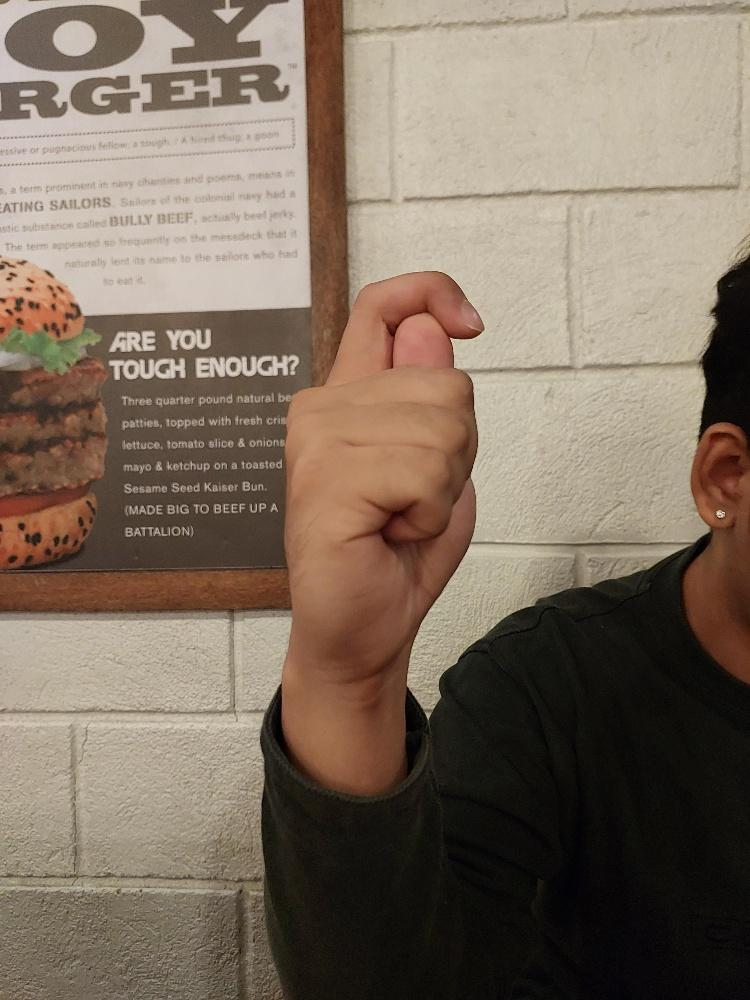t: (279, 268, 485, 680)
